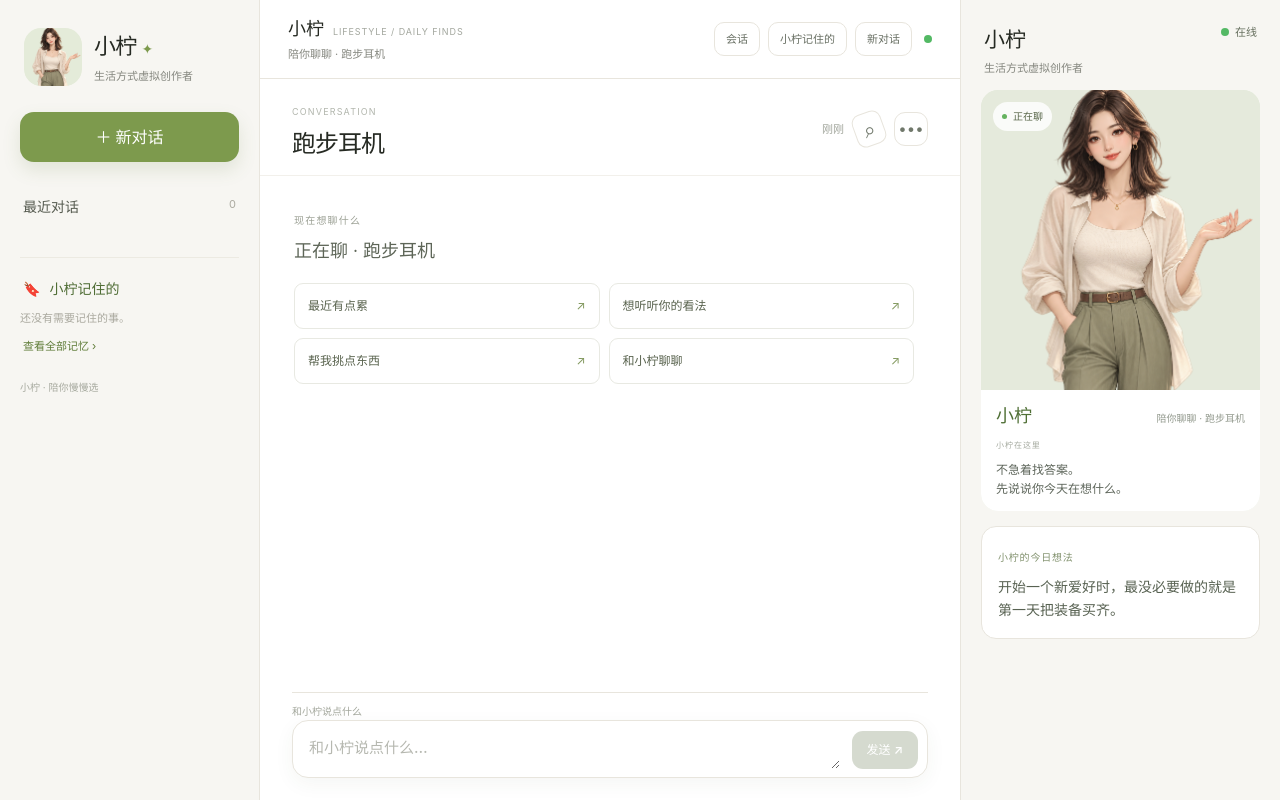
Scenario: Final Creator Home › starts a clean server session from the new conversation control
expect the element with test id "avatar-stage" is shown: met, box [981,90,1260,511]
Step 1. Click the button "新对话" → x=884, y=39, box [855,22,912,56]
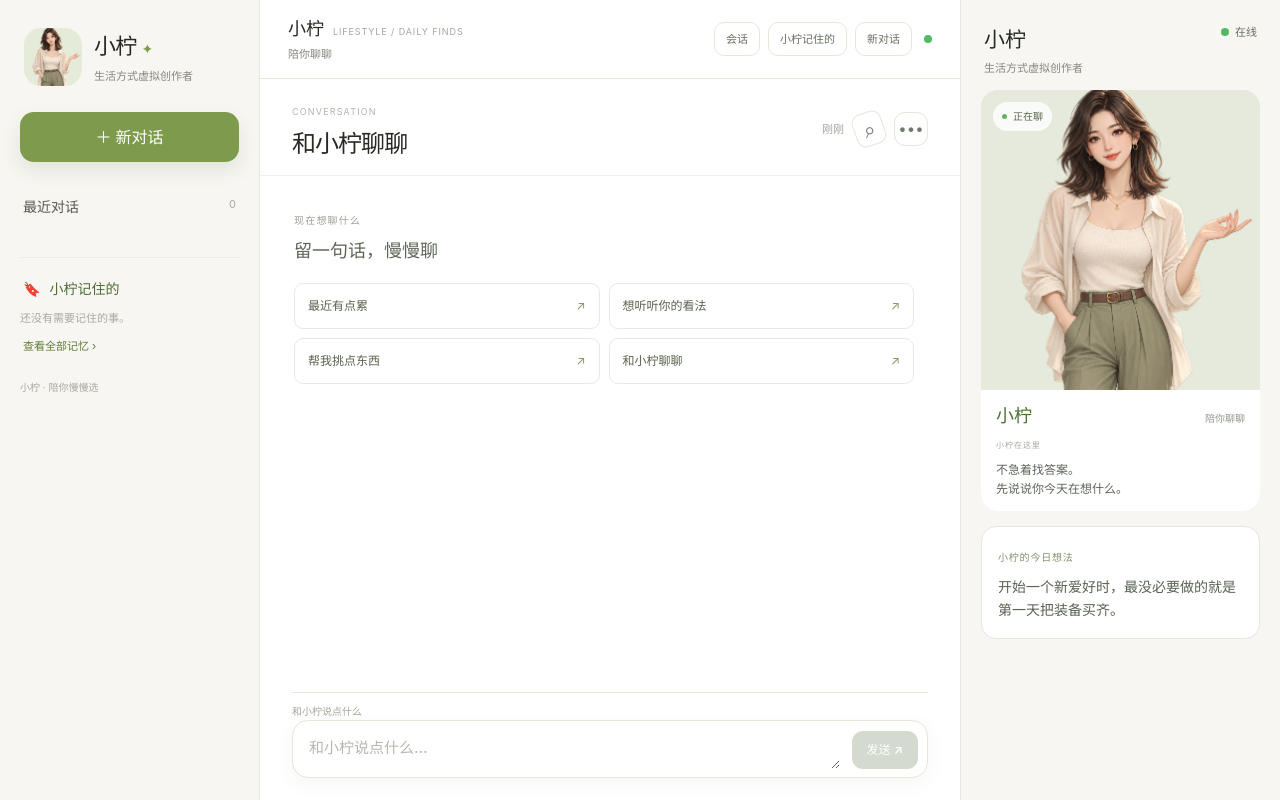
expect the text "留一句话，慢慢聊" is shown: met, box [294,240,438,260]
expect the element with test id "livestream-room" no longer shows "跑步耳机": met
